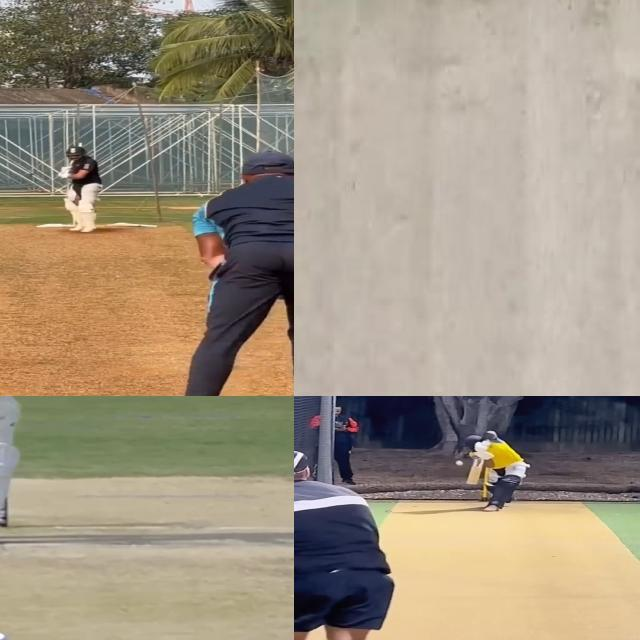Cricket ball: (454, 460, 464, 466)
